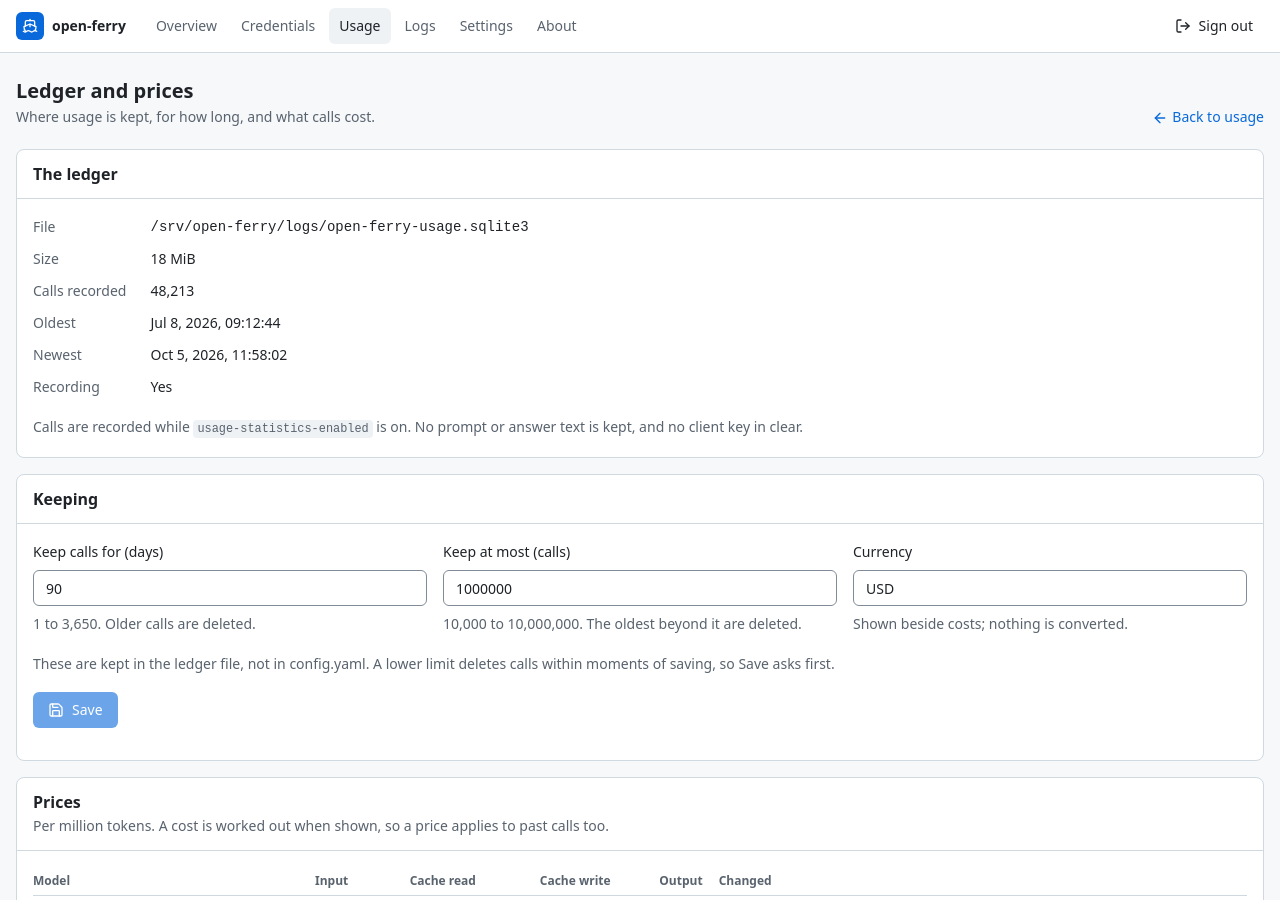
the Ledger and prices page › saves only the settings that changed, at once when nothing is deleted
Expected: the button "Save" is disabled, [33,692,118,728]
# Longer, and a lower limit that still keeps all 48,213 calls.
Replace the text in the field labelled "Keep calls for (days)" with "120": [230, 588] box [33,570,427,606]
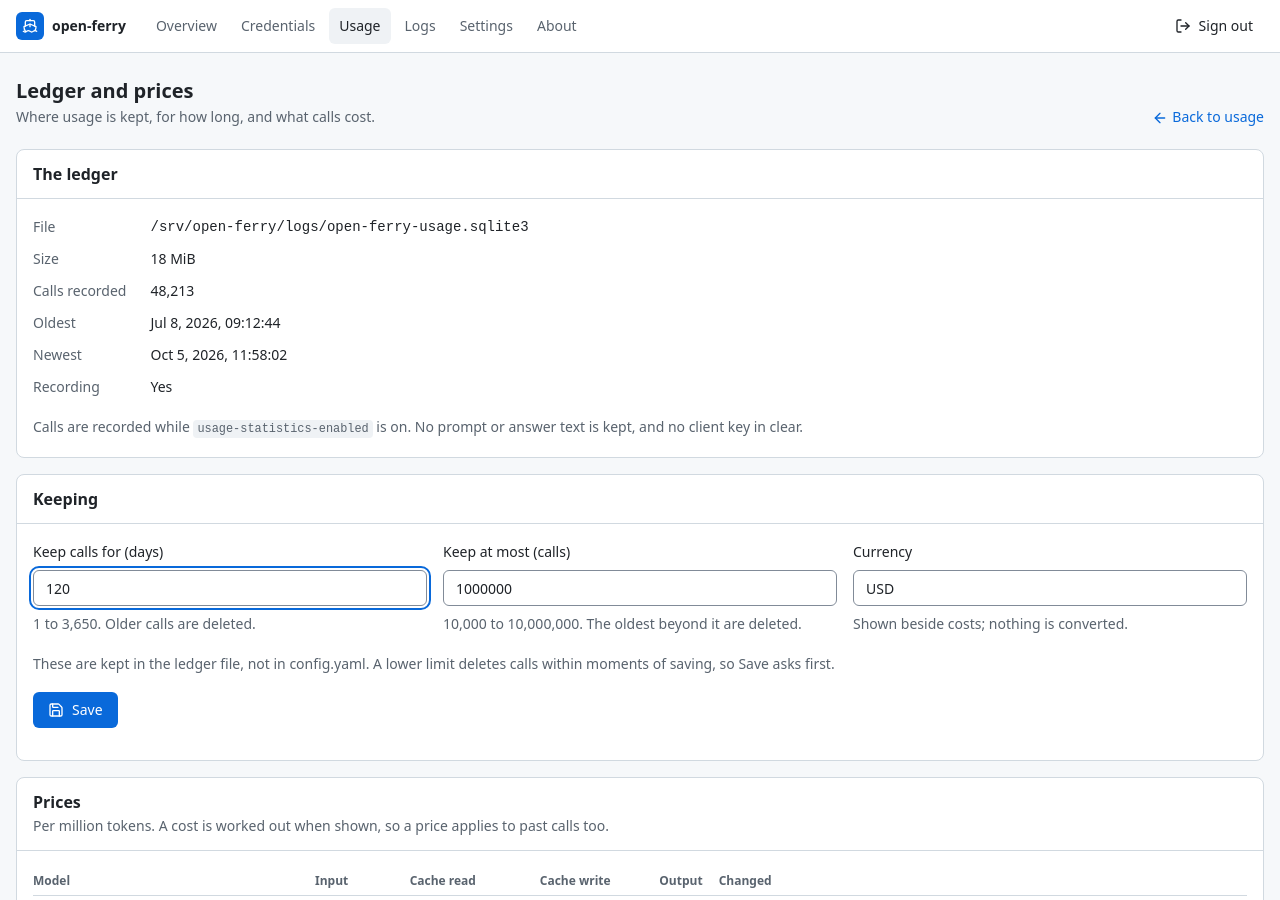
Replace the text in the field labelled "Keep at most (calls)" with "100000": [640, 588] box [443,570,837,606]
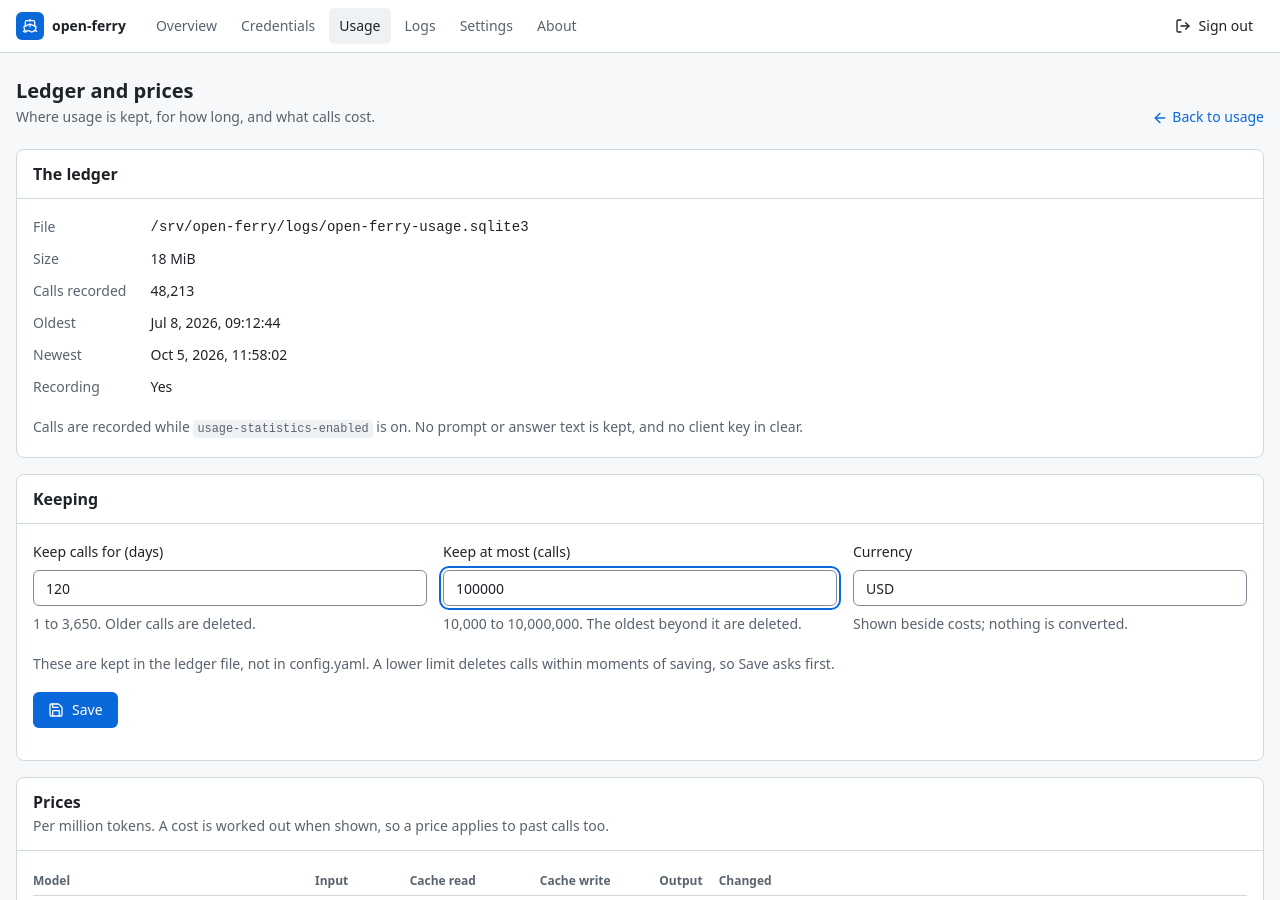
Click the button "Save": [75, 710] box [33,692,118,728]
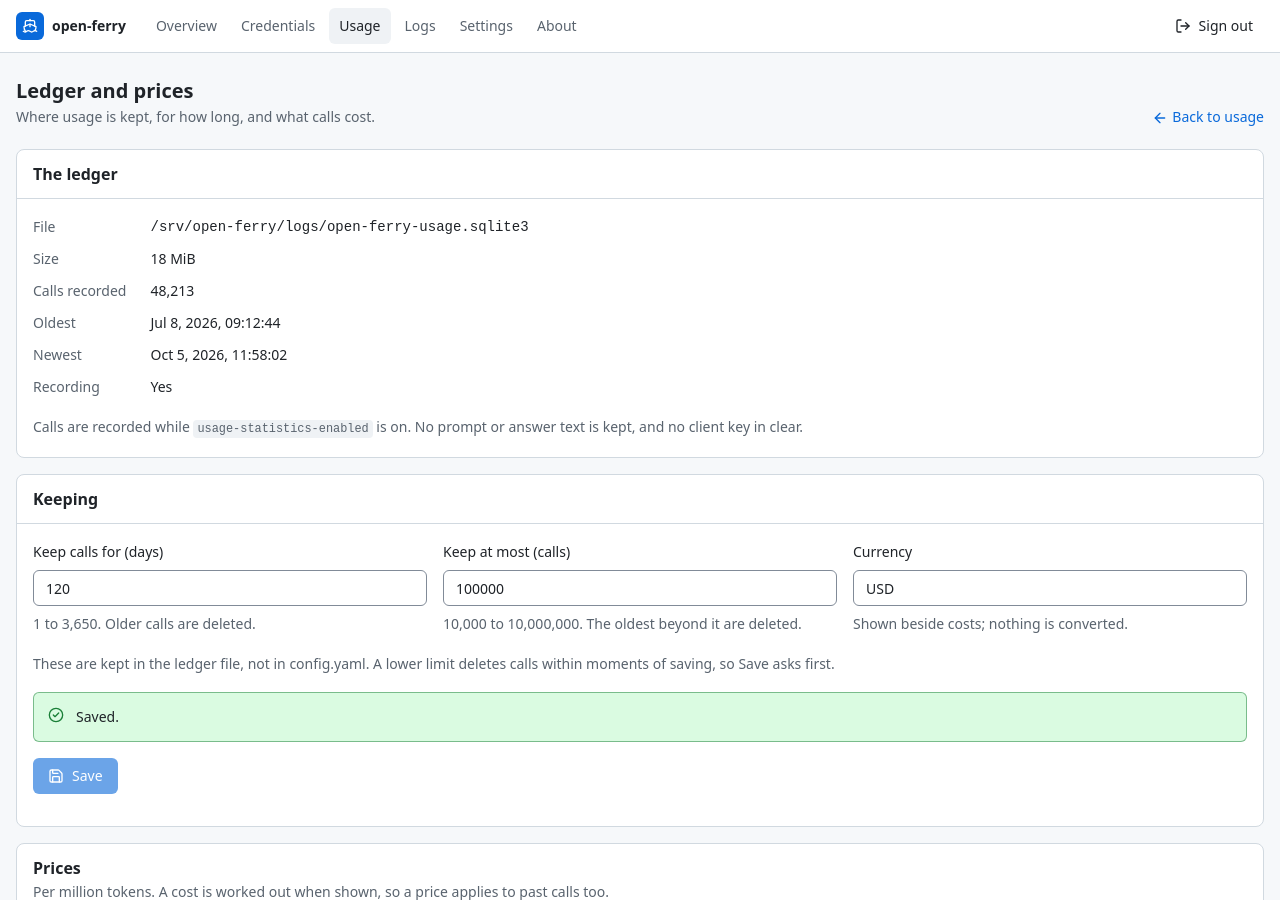
Now the text "Saved." is shown, box [76,705,119,729]
